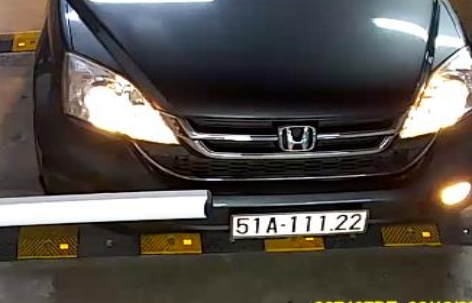plate: (231, 204, 377, 243)
